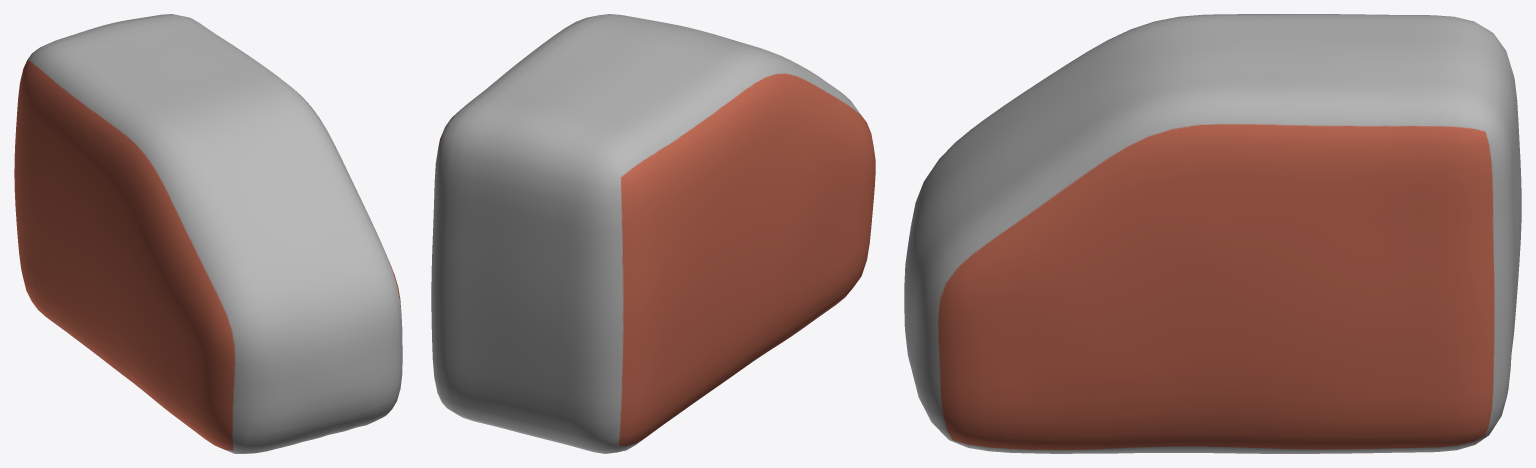
Rendered from Wing_M.fbx.
3 views of the same model, side by side, from view 1: azimuth 30°, elevation 25°; view 2: azimuth 150°, elevation 25°; view 3: azimuth 270°, elevation 25° (orthographic). The views are drawn at different scales.
Parts seen in each view (by area): view 1: Wing_XS; view 2: Wing_XS; view 3: Wing_XS.
Boxes of the visible parts, box(x1,y1,x2,y2) form: Wing_XS: box(14, 14, 402, 453); Wing_XS: box(431, 14, 875, 453); Wing_XS: box(904, 14, 1521, 453).
Bounding box in the file's own units: 99.16 × 131 × 202.
